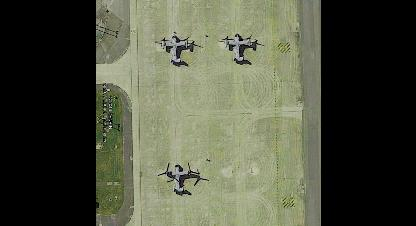Tornado: (156, 161, 199, 190), (216, 33, 256, 60), (154, 35, 192, 62)
